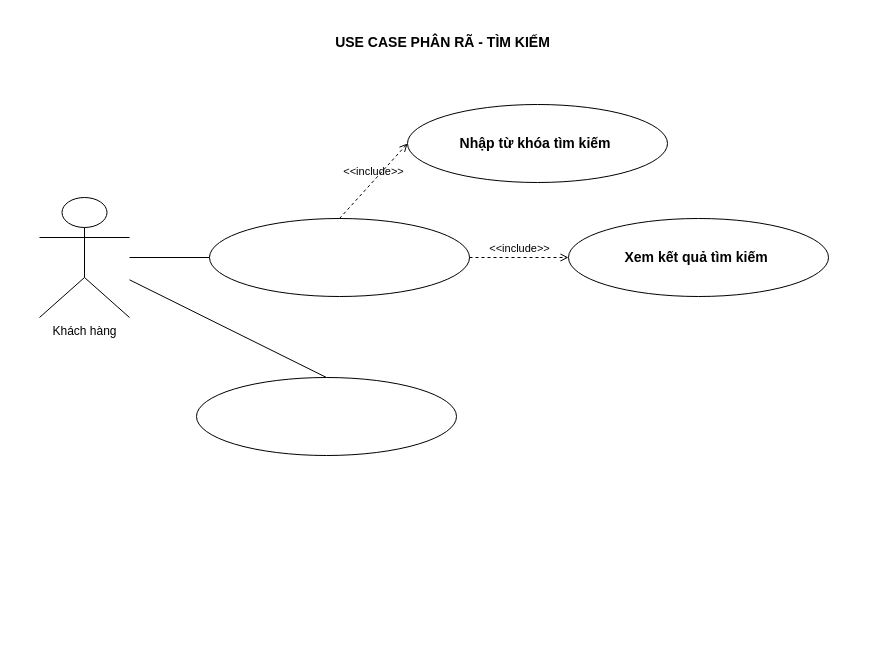
Some shapes in this 885 by 654 pixel diagram are drawn without their labels. The shapes that lost their labels are listed below. From the top down, each one's box as (x1, y1, x2, y2) in pixels, then its label:
(208, 218, 470, 296): Tìm kiếm trên nội dung và sản phẩm
(196, 376, 456, 456): Truy cập liên kết nhanh
